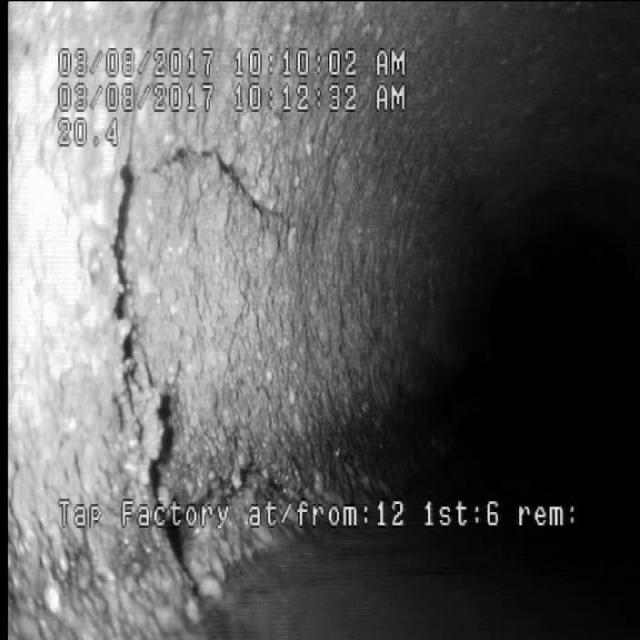Fracture: (83, 141, 306, 455)
